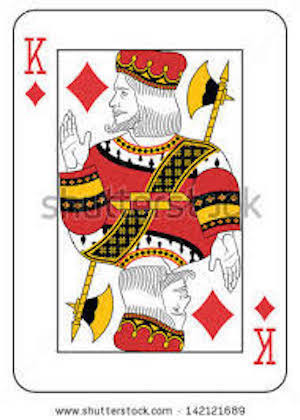KingOfDiamonds: (10, 6, 293, 396)
